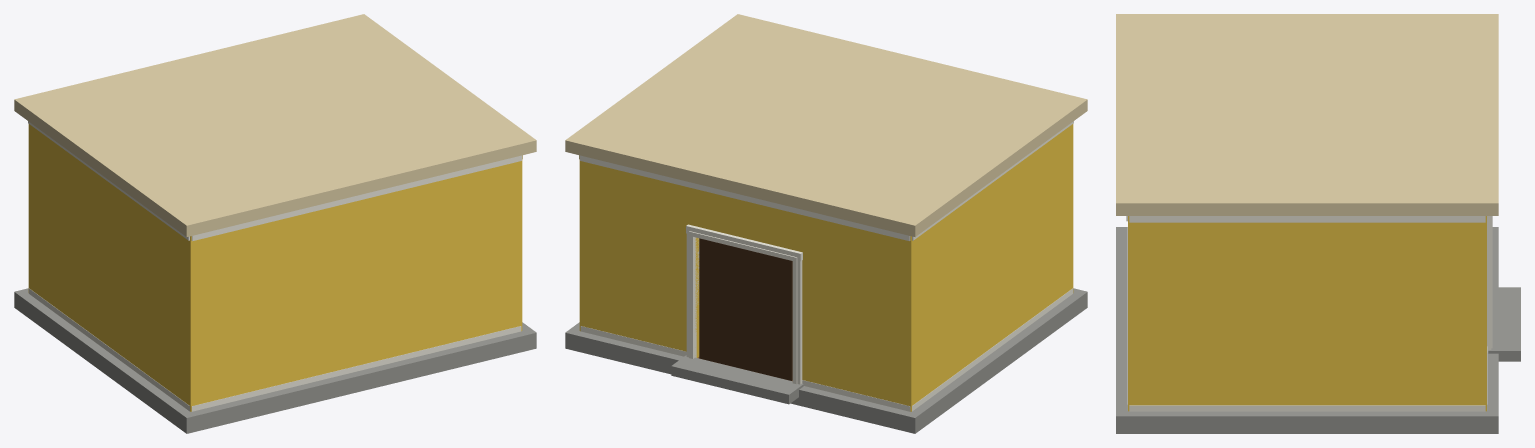
Rendered from SM_Interior_ra_player_room_Shell.fbx.
3 renders of one model, left to right at view 1: azimuth 30°, elevation 25°; view 2: azimuth 150°, elevation 25°; view 3: azimuth 270°, elevation 25°, orthographic. The views are drawn at different scales.
Visible parts, largest first — view 1: SM_Interior_ra_player_room_Shell; view 2: SM_Interior_ra_player_room_Shell; view 3: SM_Interior_ra_player_room_Shell.
Boxes of the visible parts, <box> form: SM_Interior_ra_player_room_Shell: <box>14,14,536,433</box>; SM_Interior_ra_player_room_Shell: <box>565,14,1087,433</box>; SM_Interior_ra_player_room_Shell: <box>1116,14,1520,433</box>.
Size of the model in its own units: 6.86 by 3.9 by 6.2.
